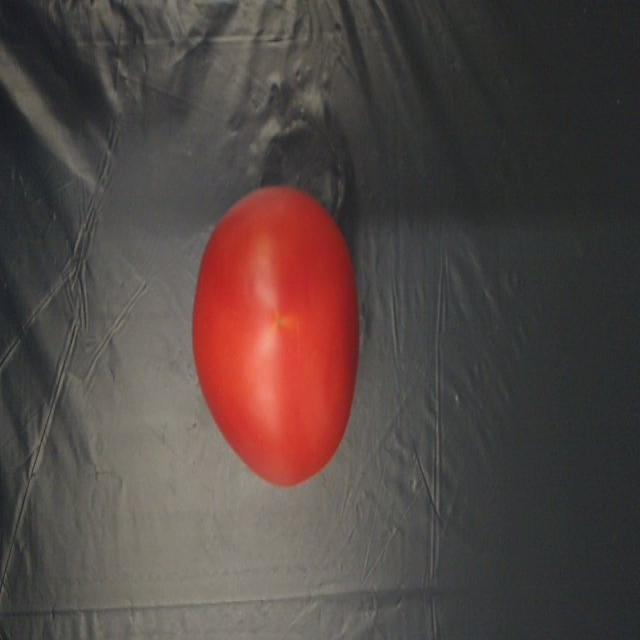kirmizi: (180, 166, 387, 503)
